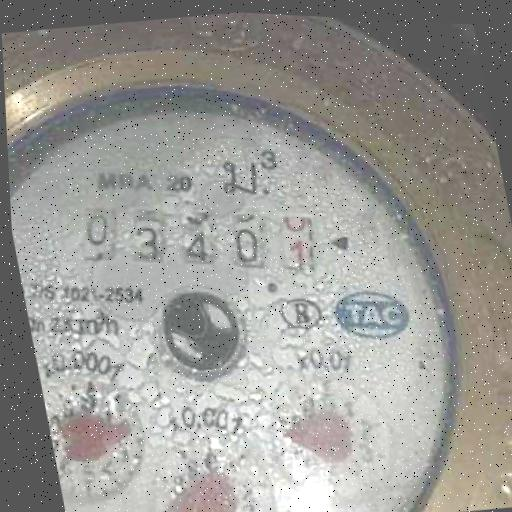0: (73, 203, 123, 265), (274, 213, 321, 274), (226, 211, 272, 272)
3: (122, 206, 170, 267)
4: (175, 209, 222, 268)
border_water_meter_number: (64, 170, 332, 310)
